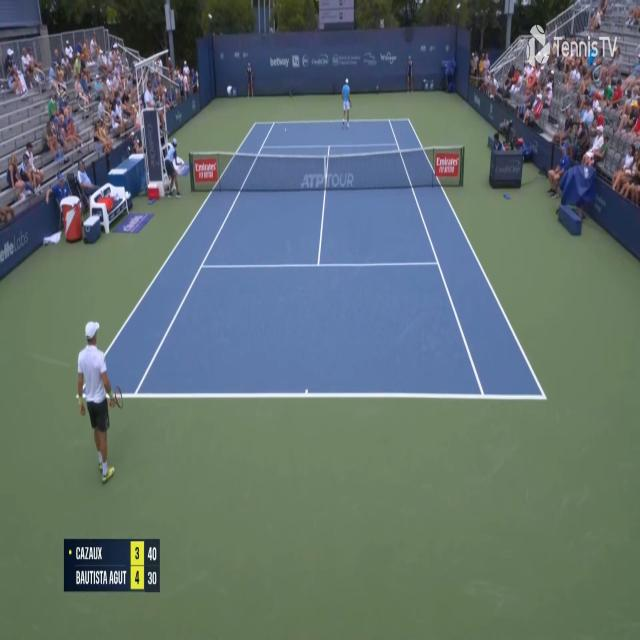tennis-player: (74, 316, 125, 485), (340, 75, 352, 130)
